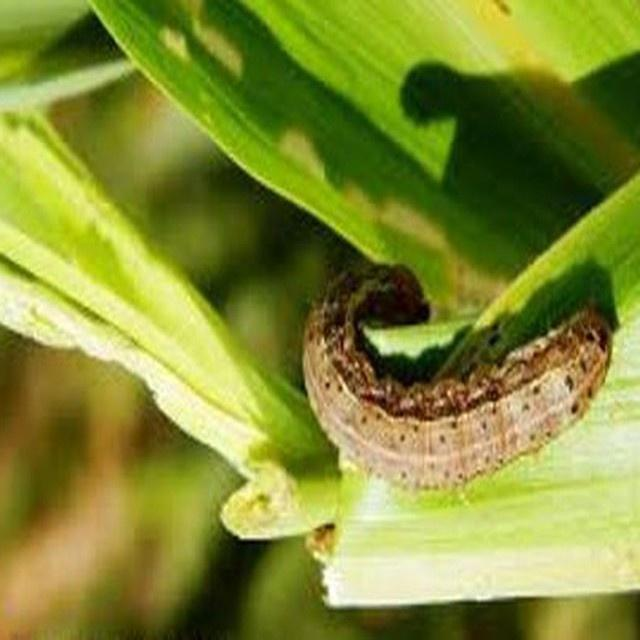gusano_cogollero: (307, 265, 610, 490)
